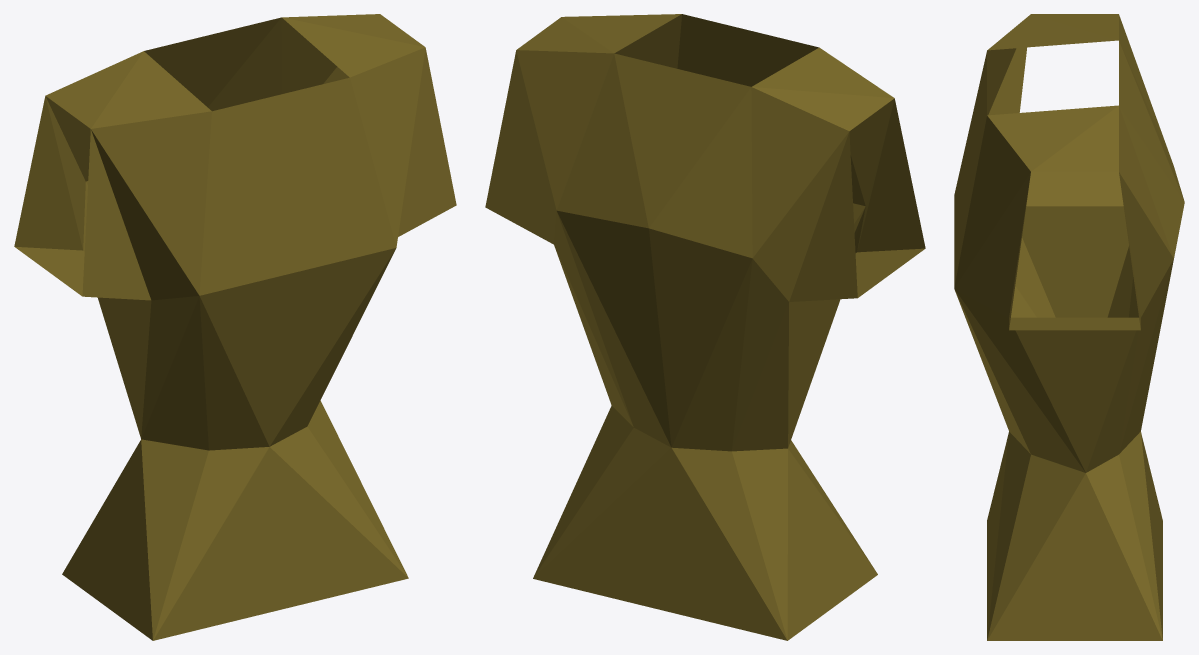
File: model_308_npc.obj
3 views of the same model, side by side, from view 1: azimuth 30°, elevation 25°; view 2: azimuth 150°, elevation 25°; view 3: azimuth 270°, elevation 25° (orthographic). The views are drawn at different scales.
Visible parts, largest first — view 1: 308; view 2: 308; view 3: 308.
Part boxes in pixels (box(x1,y1,x2,y2)): 308: box(14, 14, 456, 640); 308: box(485, 14, 925, 640); 308: box(954, 14, 1184, 640).
Size of the model in its own units: 38 by 51 by 21.
